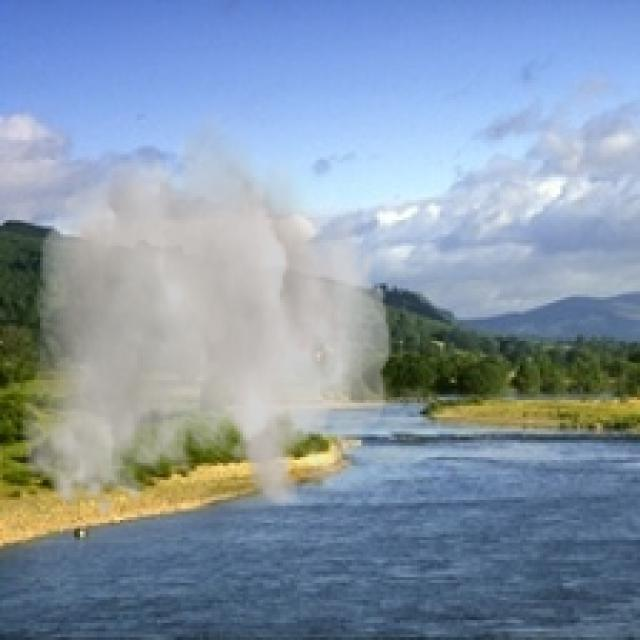Smoke: (19, 100, 392, 523)
